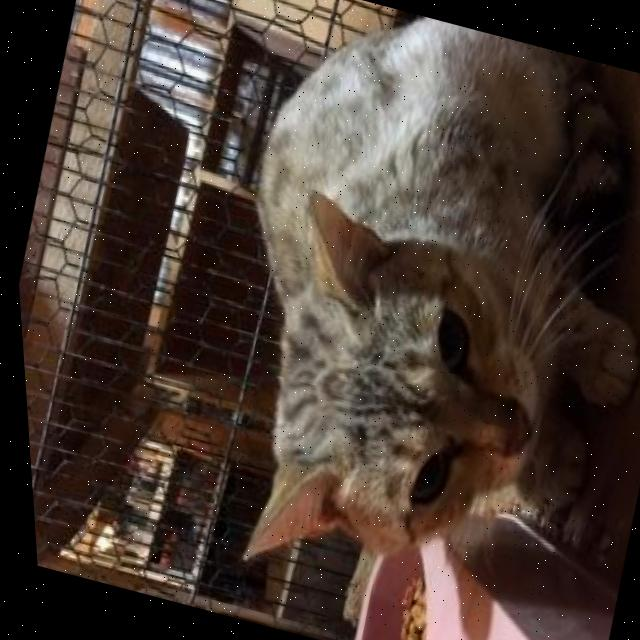Egyptian Mau: (137, 0, 640, 640)
